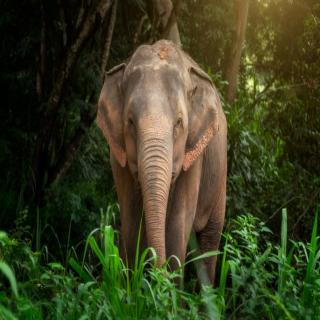Elephant: (96, 36, 234, 308)
